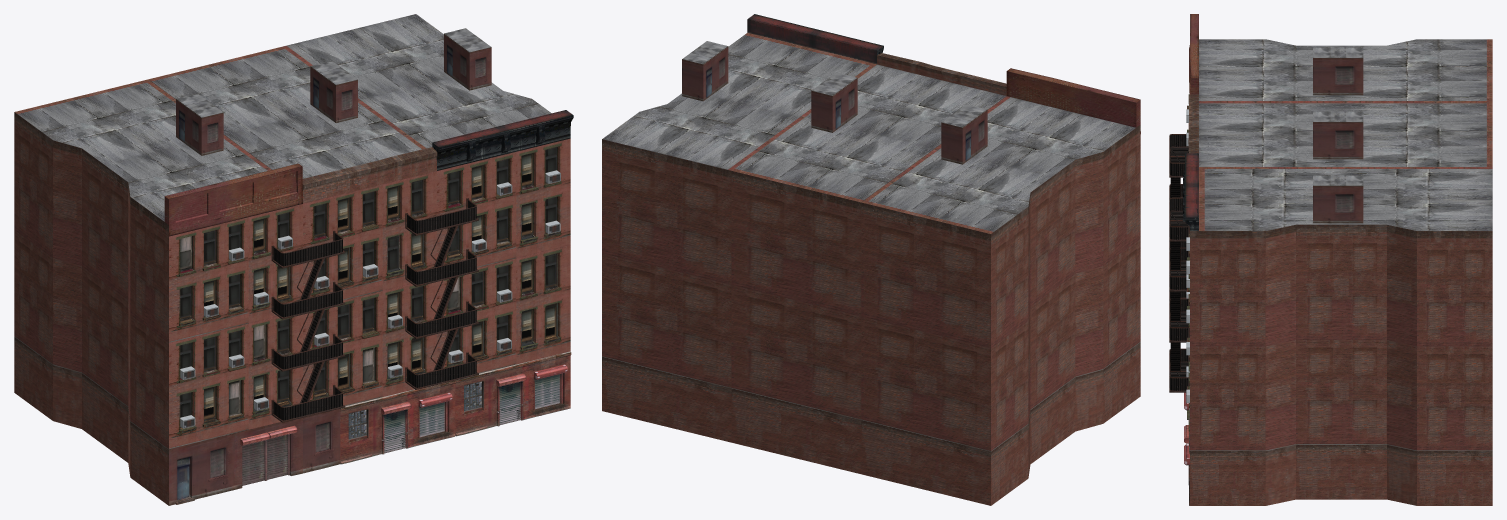
File: Building2.glb
The picture shows the model from 3 angles, left to right: view 1: azimuth 30°, elevation 25°; view 2: azimuth 150°, elevation 25°; view 3: azimuth 270°, elevation 25°; orthographic projection. The views are drawn at different scales.
Visible parts, largest first — view 1: Brownstone_FlatFacade_1_Brownstone_Facade_Flr_2_0; view 2: Brownstone_FlatFacade_1_Brownstone_Facade_Flr_2_0; view 3: Brownstone_FlatFacade_1_Brownstone_Facade_Flr_2_0.
Boxes of the visible parts, left/top/right/bottom form: Brownstone_FlatFacade_1_Brownstone_Facade_Flr_2_0: left=14, top=14, right=573, bottom=505; Brownstone_FlatFacade_1_Brownstone_Facade_Flr_2_0: left=602, top=14, right=1140, bottom=505; Brownstone_FlatFacade_1_Brownstone_Facade_Flr_2_0: left=1169, top=14, right=1492, bottom=505.
Bounding box in the file's own units: 30 × 22.77 × 21.38.
4 materials, 4 textured.
